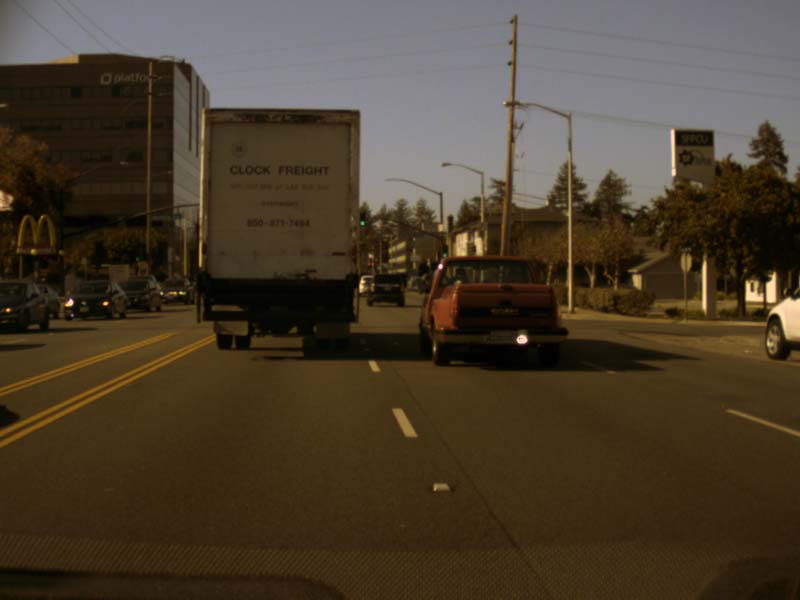Green: (359, 212, 365, 226), (442, 245, 447, 257), (135, 249, 140, 261)
